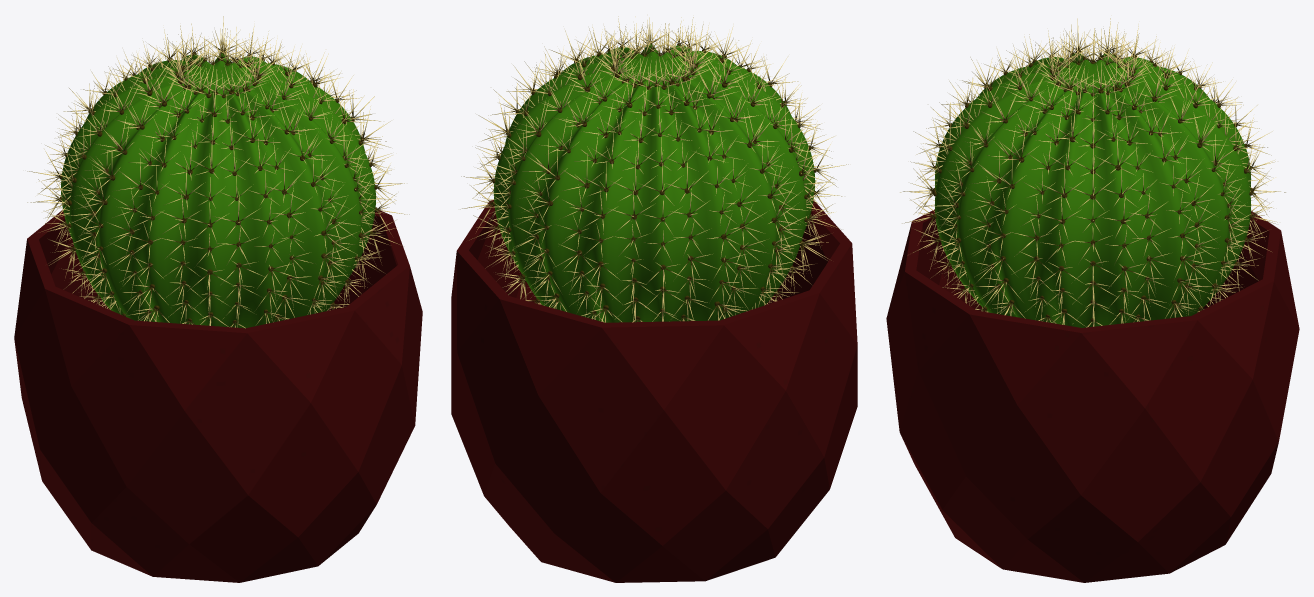
File: PARODIA_LENINGHAUSII_PORCELAIN_DIAMOND_POT.glb
The picture shows the model from 3 angles, left to right: view 1: azimuth 30°, elevation 25°; view 2: azimuth 150°, elevation 25°; view 3: azimuth 270°, elevation 25°; orthographic projection. The views are drawn at different scales.
Parts seen in each view (by area): view 1: DiamondPlanterHole, Cactus Ball1; view 2: DiamondPlanterHole, Cactus Ball1; view 3: DiamondPlanterHole, Cactus Ball1.
Part boxes in pixels (bbox=[...]): DiamondPlanterHole: bbox=[14, 210, 422, 582]; Cactus Ball1: bbox=[61, 53, 375, 328]; DiamondPlanterHole: bbox=[451, 200, 857, 582]; Cactus Ball1: bbox=[493, 44, 815, 322]; DiamondPlanterHole: bbox=[886, 209, 1299, 582]; Cactus Ball1: bbox=[934, 53, 1251, 327].
Size of the model in its own units: 0.9473 by 1.26 by 0.977.
Materials: 3 (2 with a texture image).
